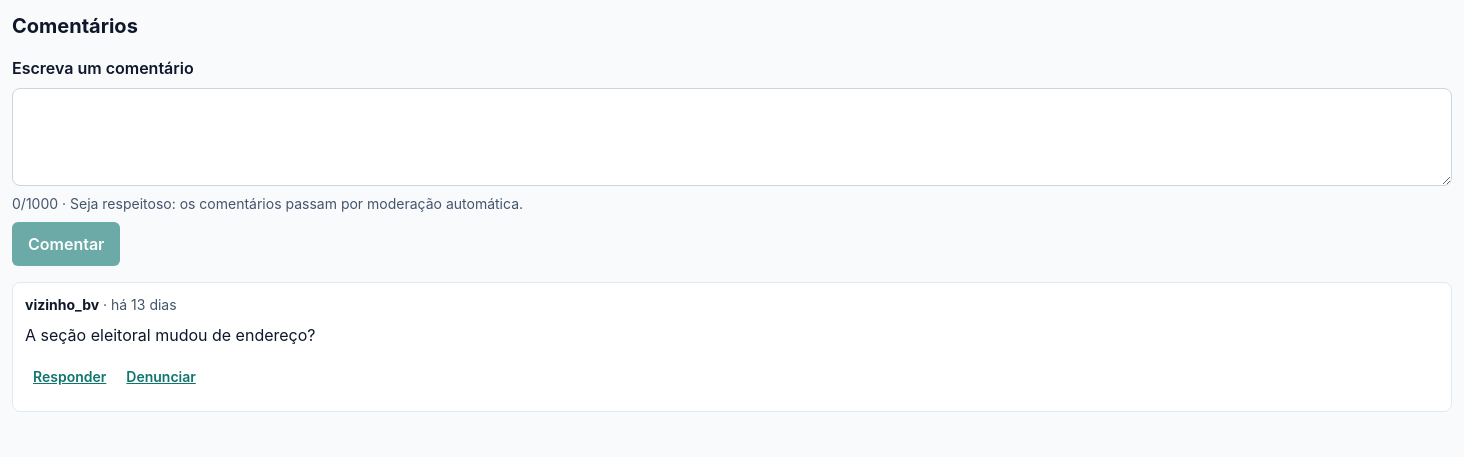
Comments › denuncia o comentário de outra pessoa (o próprio não tem o botão)
Click the button with aria-label "Denunciar comentário de vizinho_bv" at (161, 377), box [118,355,204,399]
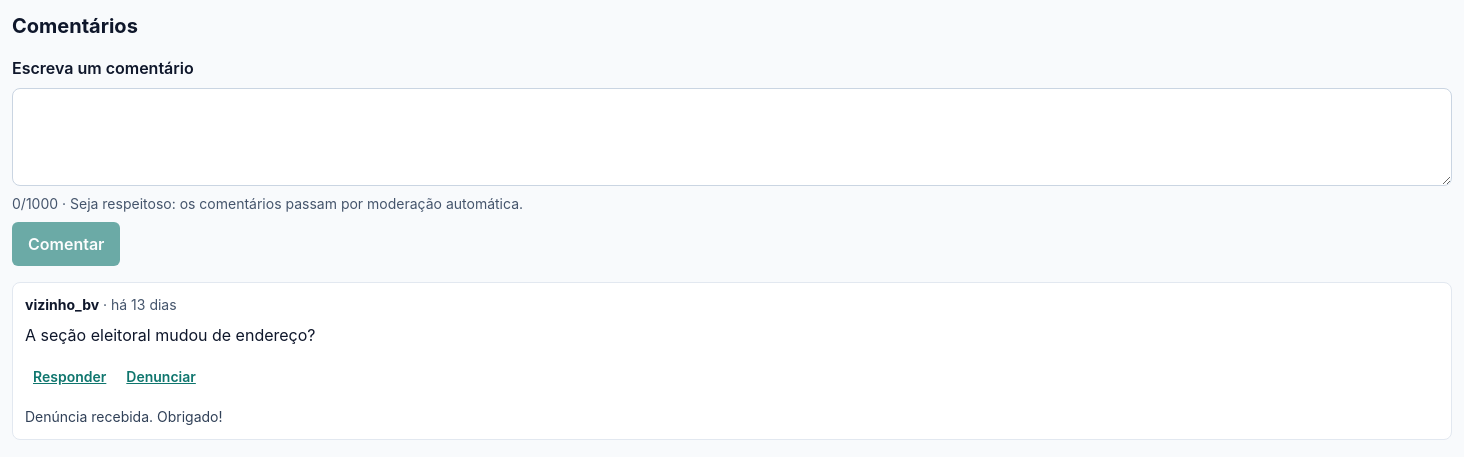
Now the text "Denúncia recebida. Obrigado!" is shown, box [25,408,222,425]
